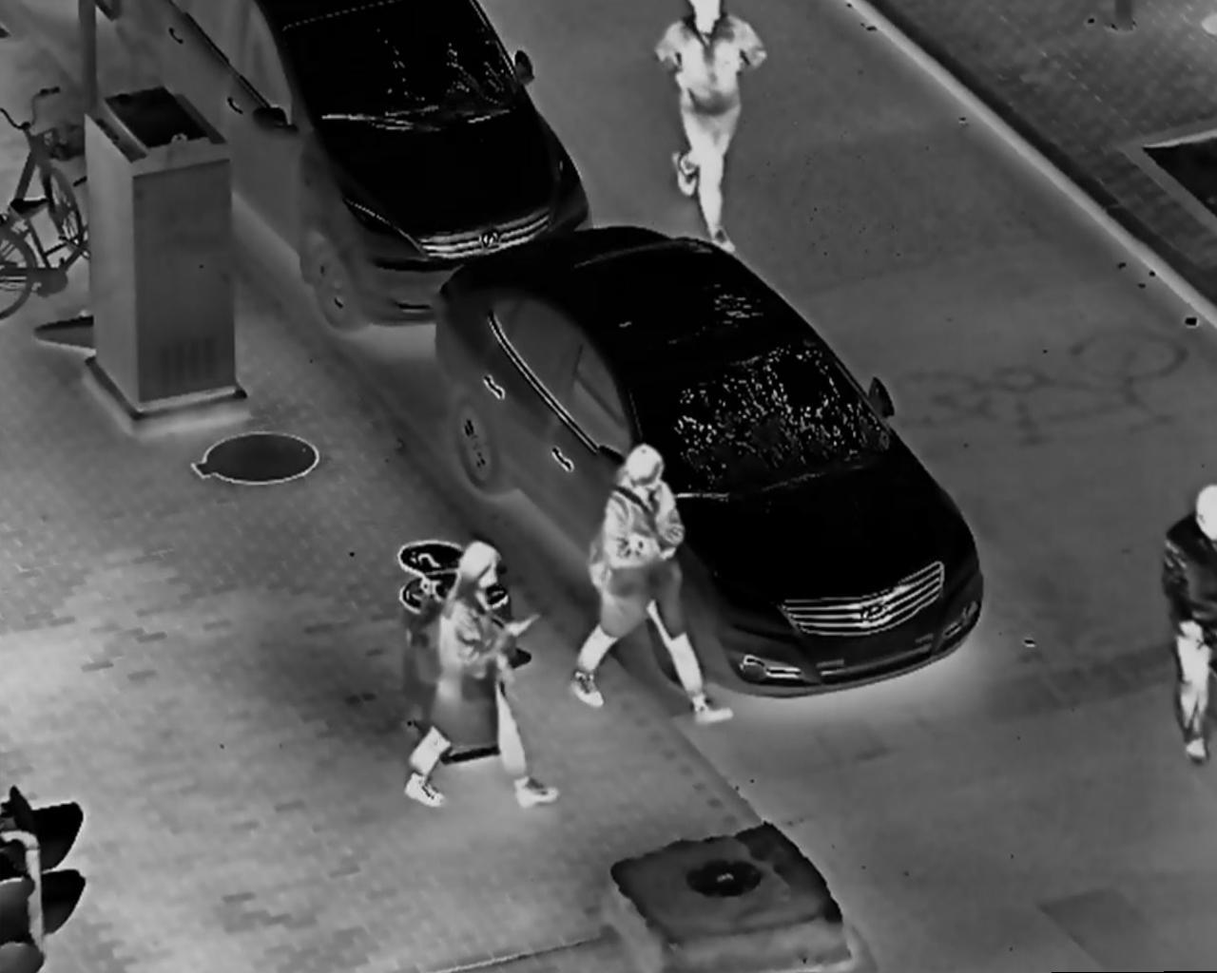person: (568, 441, 736, 728), (402, 543, 566, 813), (1163, 477, 1217, 773)
